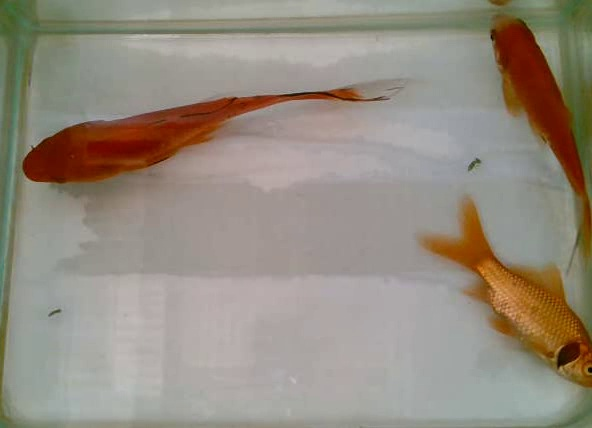alive_fish: (21, 68, 411, 190), (481, 12, 592, 280)
dead_fish: (410, 191, 592, 390)
